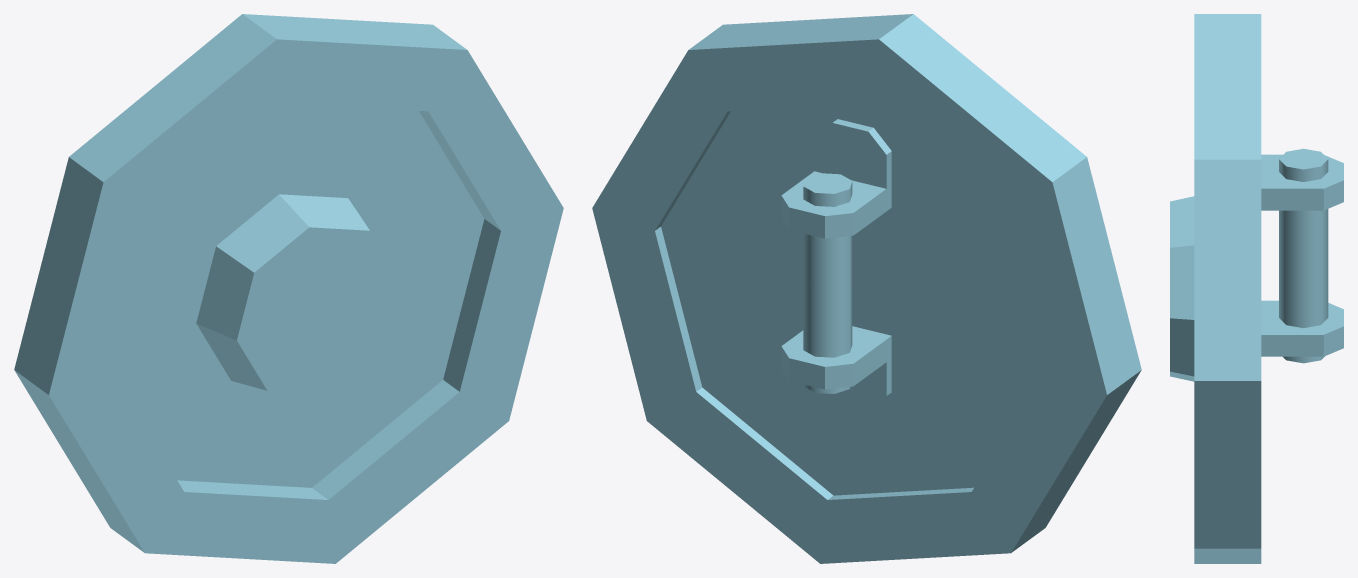
Rendered from Peasnat_Shield.fbx.
3 renders of one model, left to right at view 1: azimuth 30°, elevation 25°; view 2: azimuth 150°, elevation 25°; view 3: azimuth 270°, elevation 25°, orthographic. The views are drawn at different scales.
Visible parts, largest first — view 1: Peasant_Shield; view 2: Peasant_Shield; view 3: Peasant_Shield.
Boxes of the visible parts, left/top/right/bottom form: Peasant_Shield: left=14, top=14, right=563, bottom=563; Peasant_Shield: left=592, top=14, right=1141, bottom=563; Peasant_Shield: left=1170, top=14, right=1343, bottom=563.
Size of the model in its own units: 75.67 by 75.67 by 22.82.
